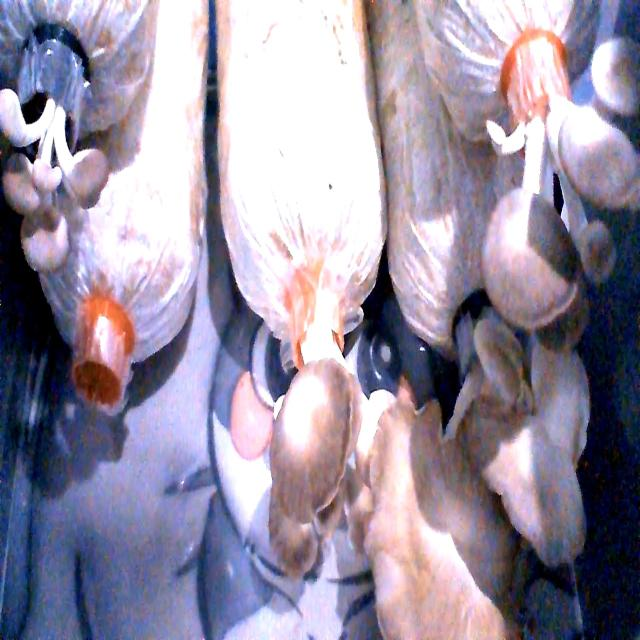big: (368, 314, 598, 640), (479, 31, 640, 345), (266, 341, 419, 604)
nfound: (56, 348, 134, 414)
small: (0, 81, 126, 307)
